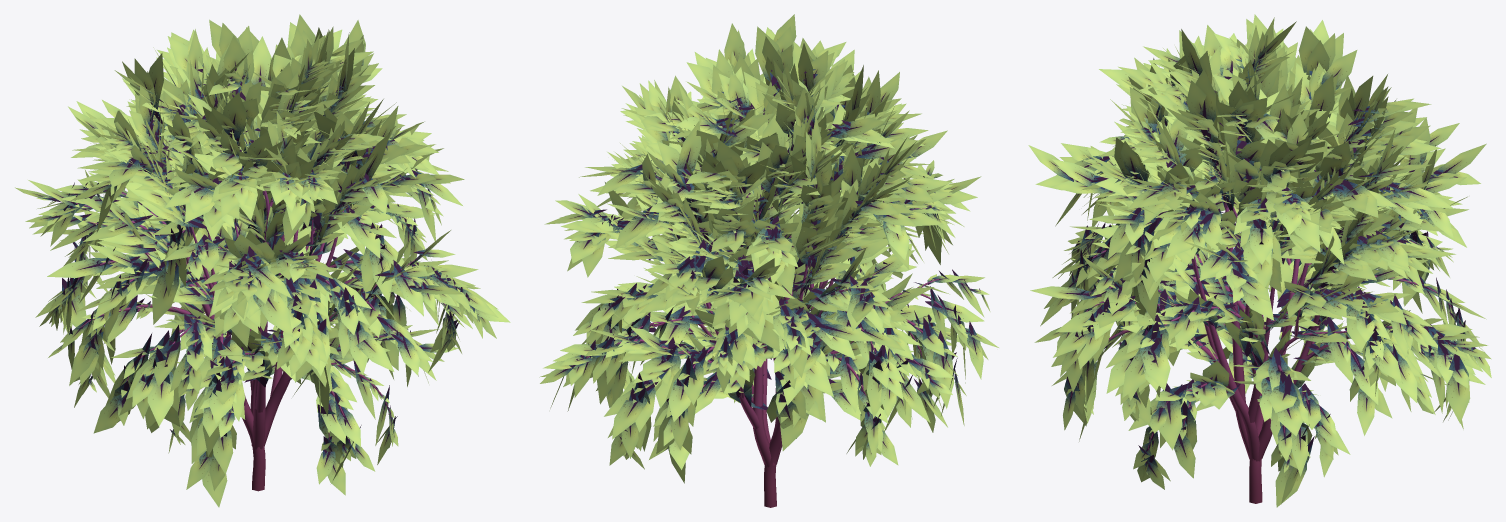
The model's file is GrowTree3.fbx.
The picture shows the model from 3 angles, left to right: view 1: azimuth 30°, elevation 25°; view 2: azimuth 150°, elevation 25°; view 3: azimuth 270°, elevation 25°; orthographic projection. The views are drawn at different scales.
Visible parts, largest first — view 1: tree.004; view 2: tree.004; view 3: tree.004.
Part boxes in pixels (x1,y1,x2,y2): tree.004: (15,14,510,507); tree.004: (539,14,998,507); tree.004: (1028,14,1491,507).
Size of the model in its own units: 2532 by 3030 by 2662.
